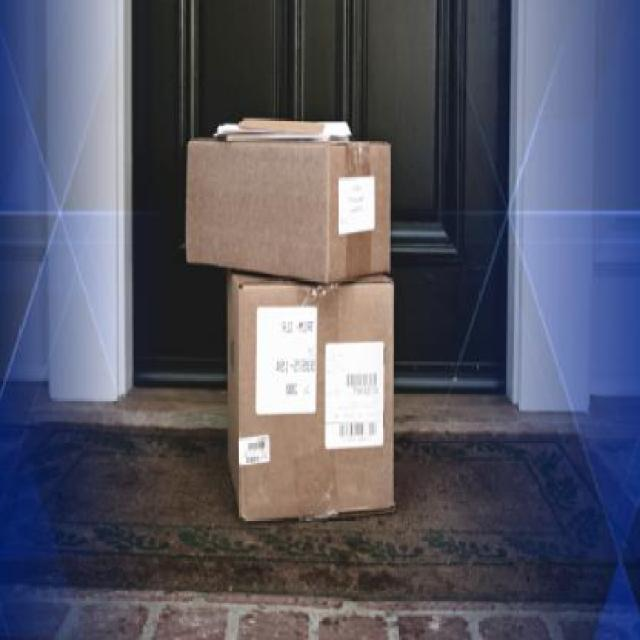cardboxes: (228, 266, 397, 525), (186, 137, 392, 285)
